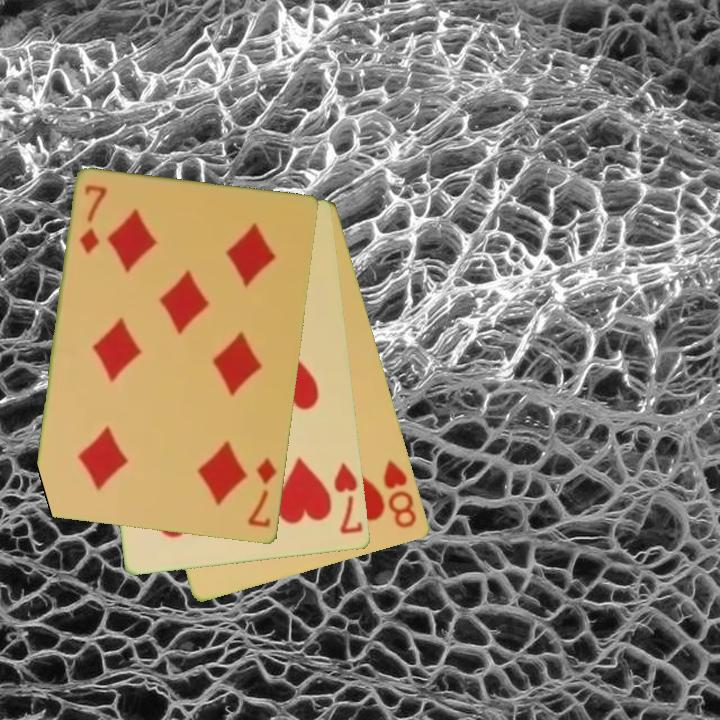7d: (244, 454, 280, 531), (76, 182, 110, 258)
7h: (330, 459, 366, 538)
8h: (380, 456, 420, 532)
